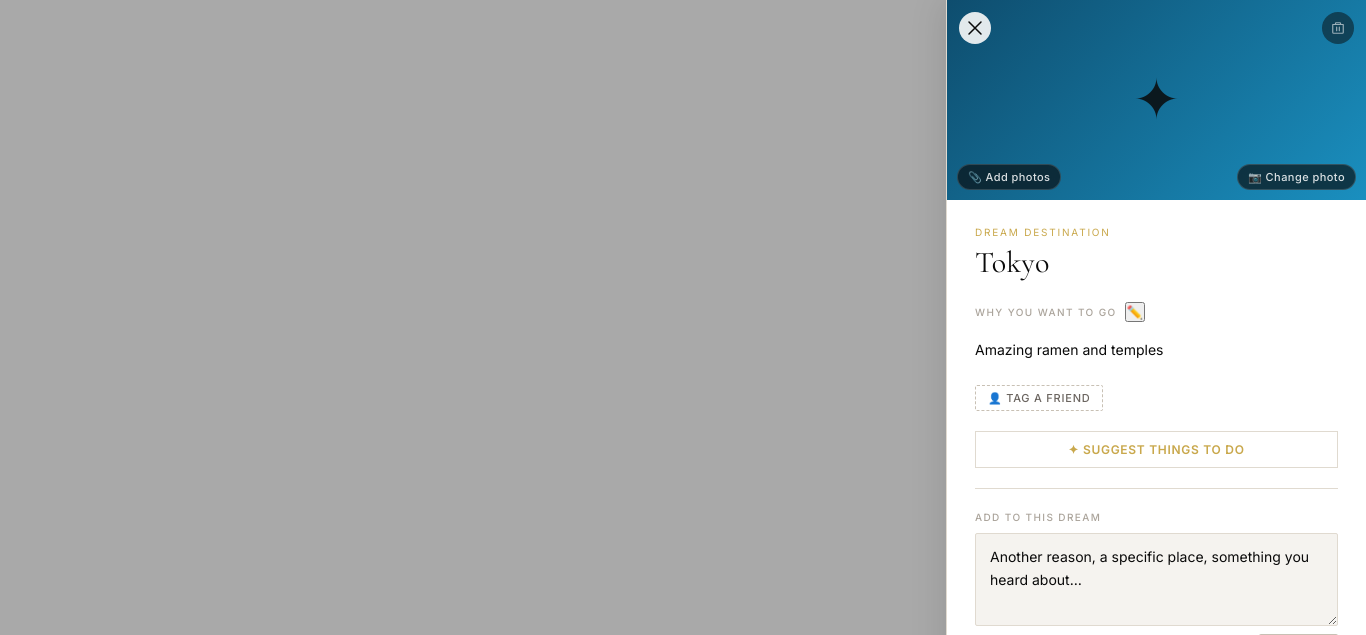
Test case: TT28: DreamDetail dreamNote inline editing › shows error message if PUT fails
This screenshot has width=1366, height=635.
Click the button "✏️" at (1135, 312), box x1=1125 y1=302 x2=1145 y2=322
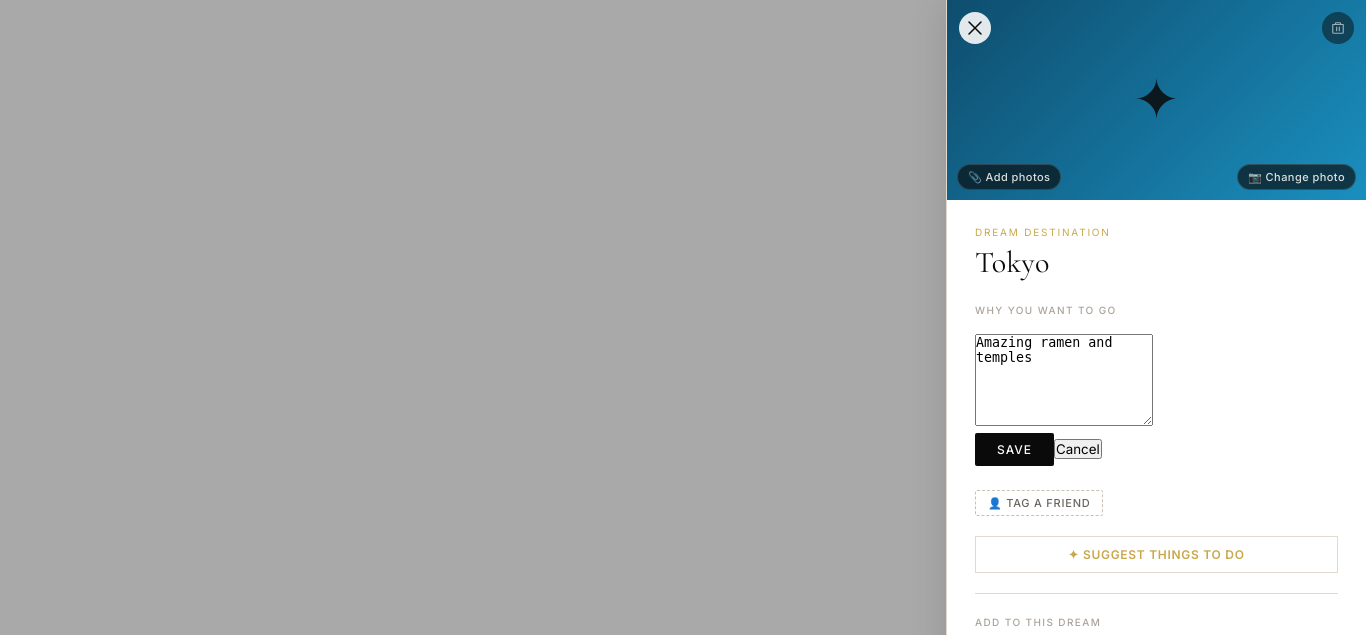
Click the button "Save" below "Why you want to go" at (1014, 450), box x1=975 y1=433 x2=1054 y2=466
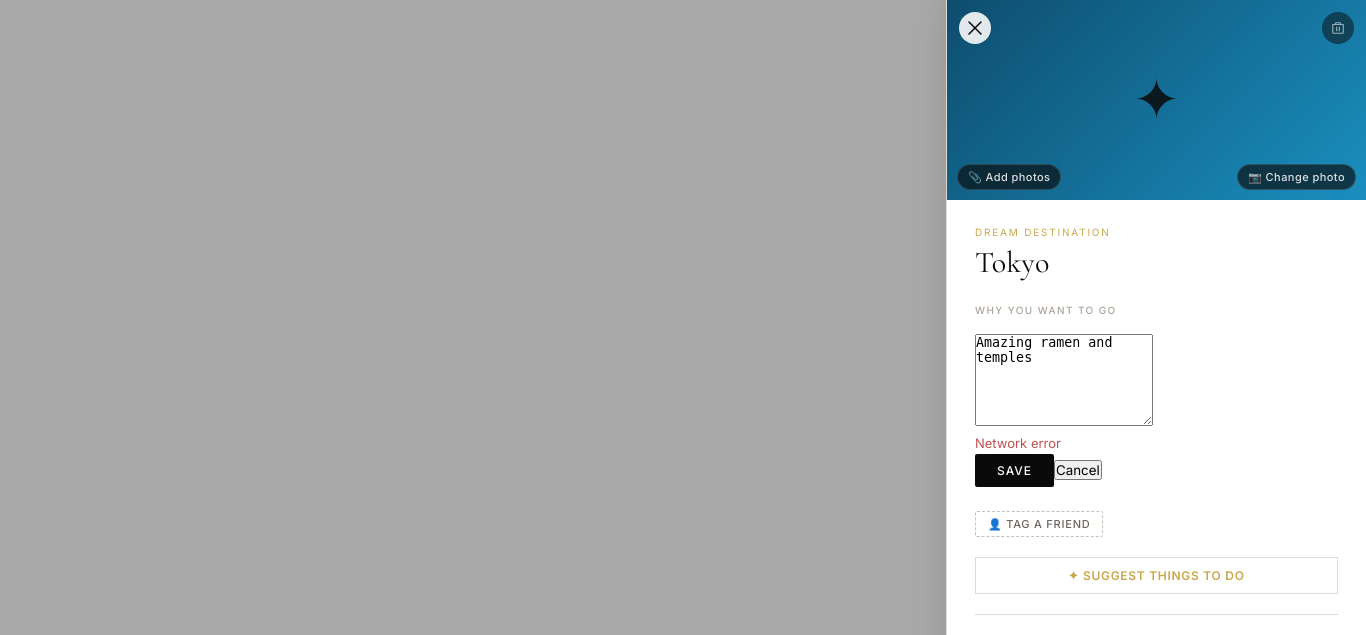
Expected: the text box with placeholder "Why do you want to go here?" is shown, x1=975 y1=334 x2=1153 y2=426
Expected: the text "Network error" is shown, x1=975 y1=435 x2=1061 y2=451
